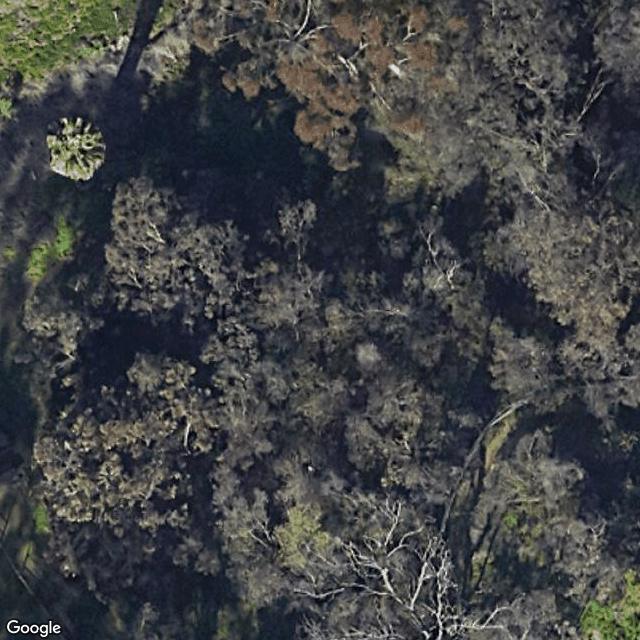palm: (40, 109, 115, 185)
